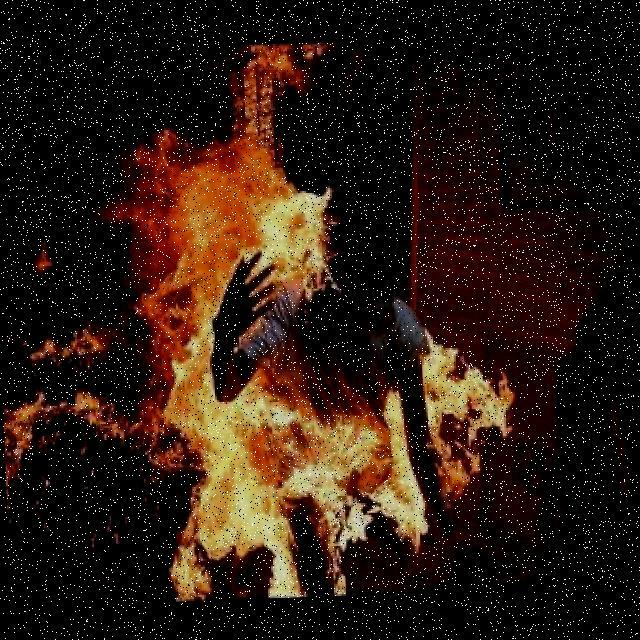Fire: (139, 385, 410, 602), (121, 112, 221, 395), (211, 110, 338, 304), (425, 323, 525, 512), (230, 30, 370, 109), (14, 311, 130, 375), (19, 225, 61, 284)
